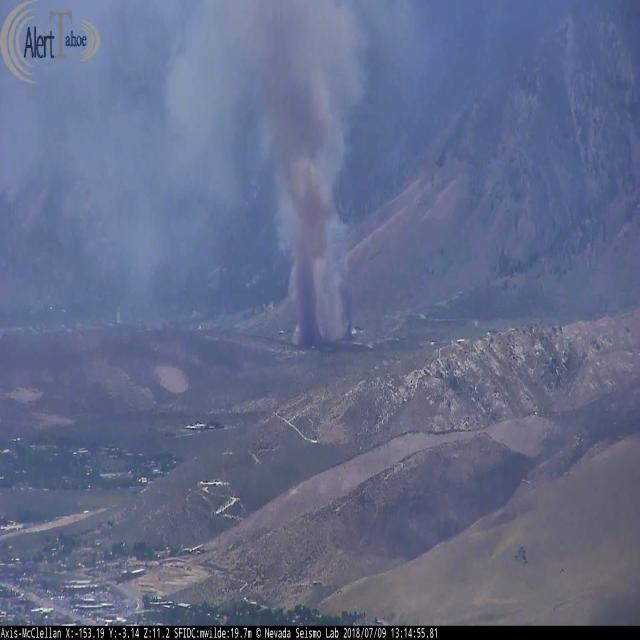smoke: (106, 0, 234, 335)
